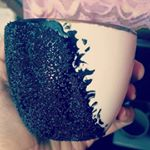cups: (1, 14, 143, 143)
